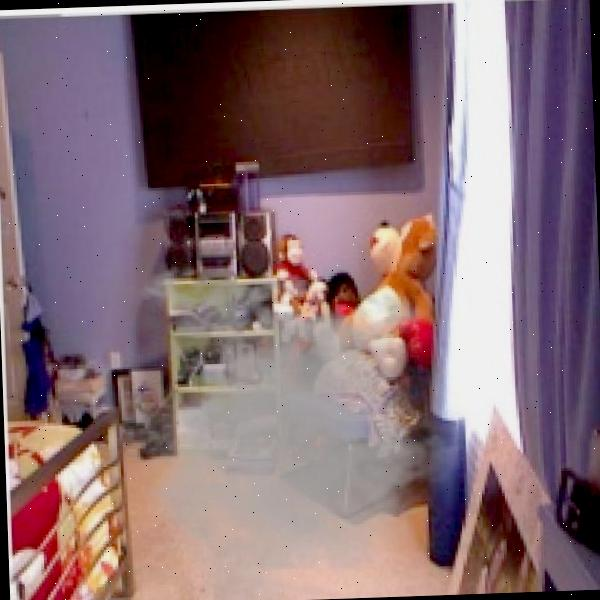smoke: (81, 246, 488, 600)
